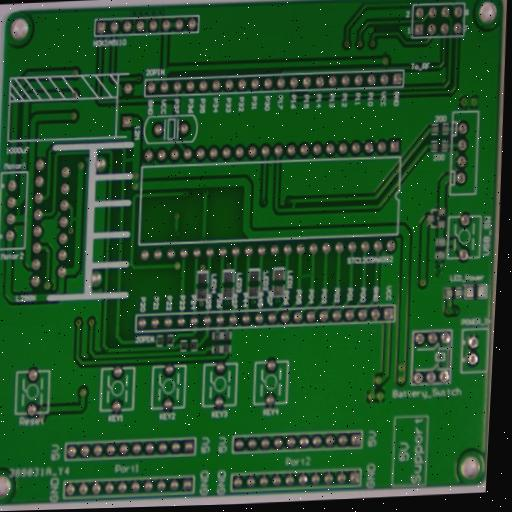short_circuit: (9, 198, 26, 223), (296, 267, 318, 284), (121, 151, 140, 168), (287, 197, 302, 214), (67, 211, 83, 226)
